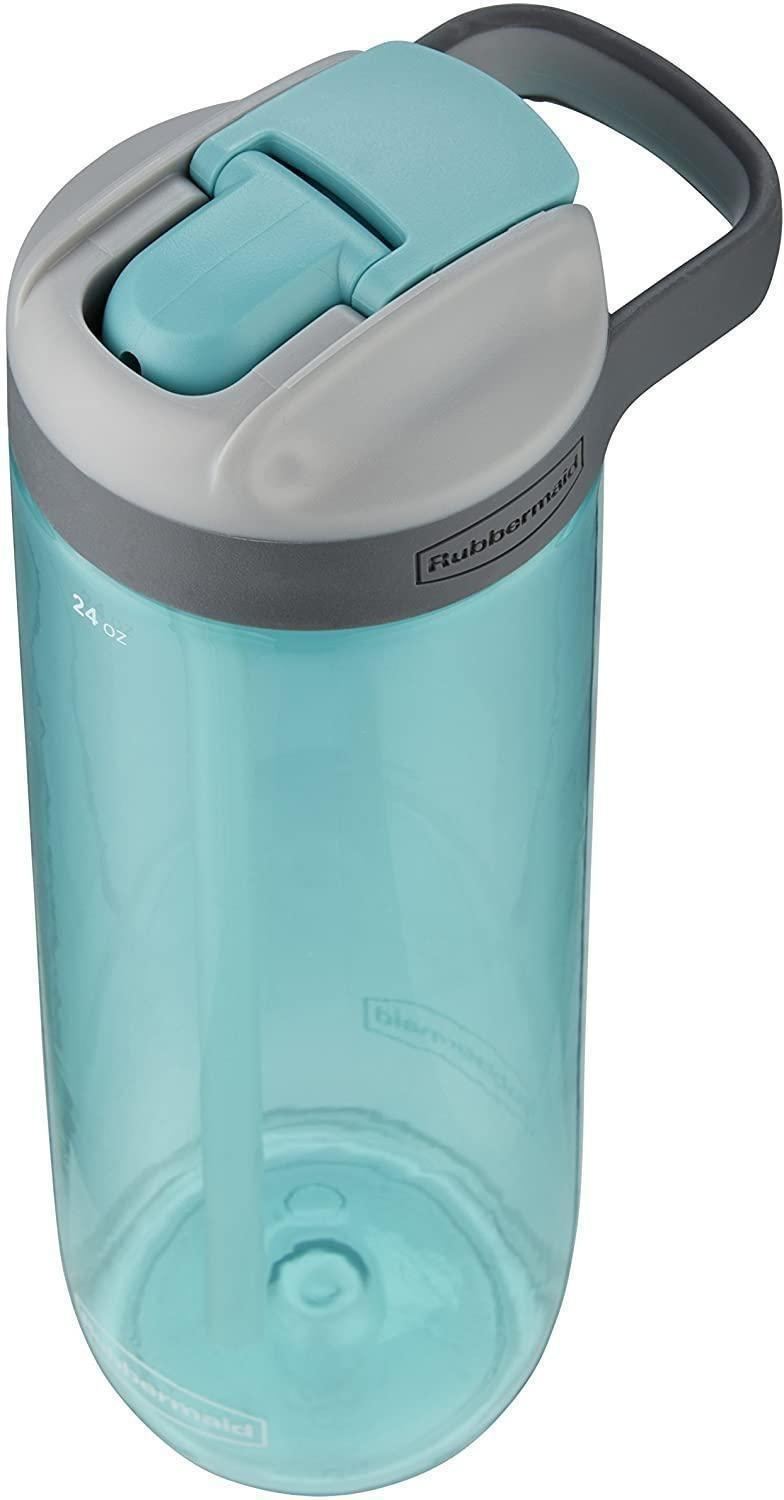gym bottle: (0, 0, 773, 1499)
